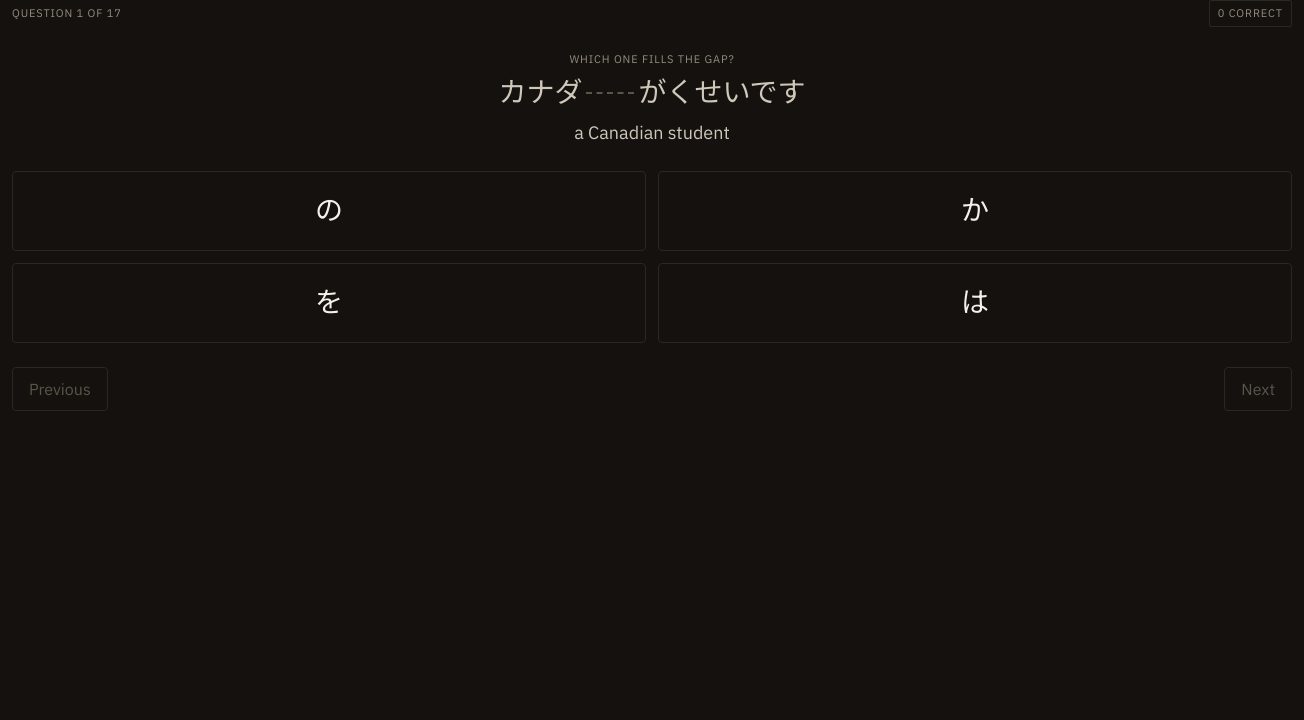
Test: The grammar cloze › locks the options once answered
This screenshot has width=1304, height=720.
What coordinates should you click on to do the following:
click the button "の"
I would click on:
 (329, 211)
Its box is [12, 171, 646, 251].
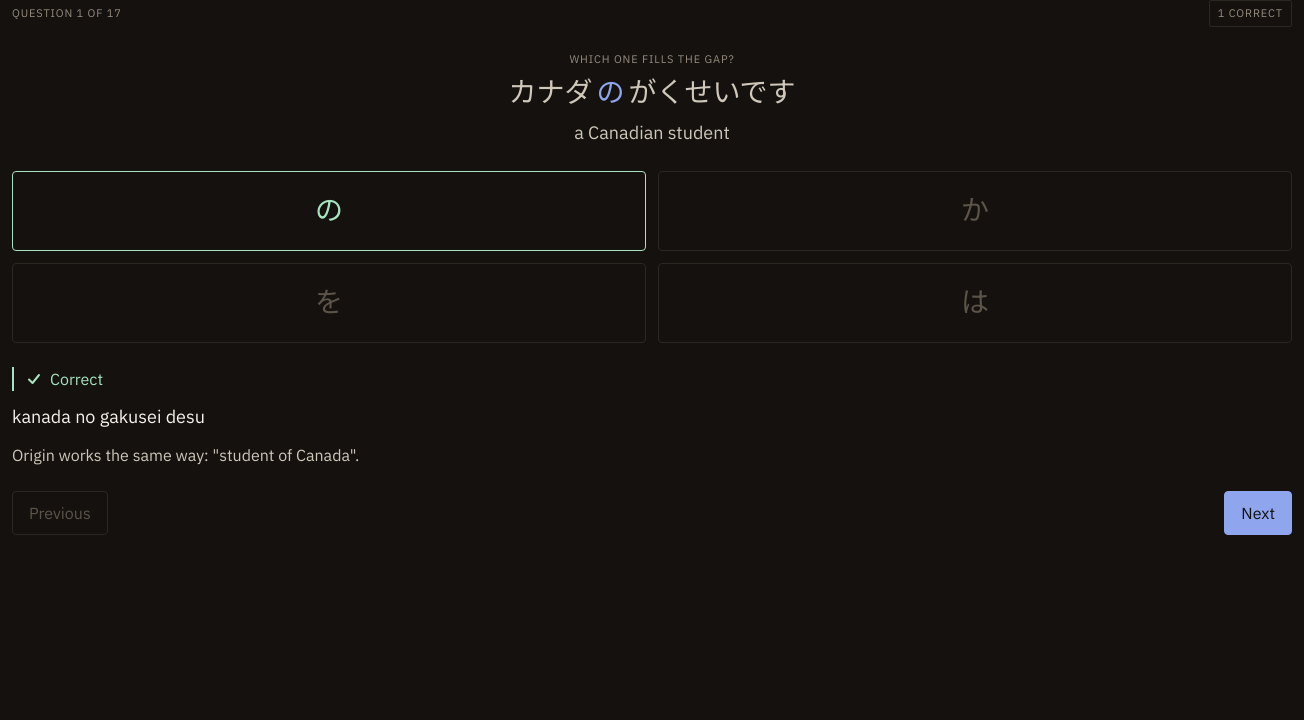
Expected: the button "の" is disabled, [12, 171, 646, 251]
Expected: the button "か" is disabled, [658, 171, 1292, 251]
Expected: the button "を" is disabled, [12, 263, 646, 343]
